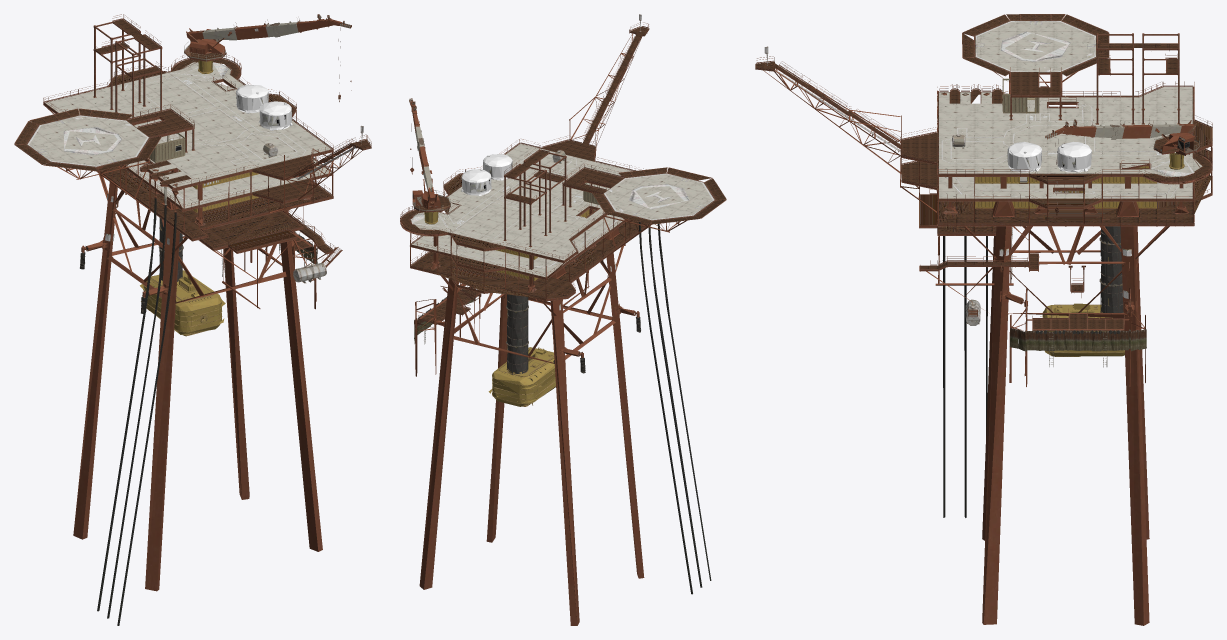
File: oilrig_2-map.glb
3 views of the same model, side by side, from view 1: azimuth 30°, elevation 25°; view 2: azimuth 150°, elevation 25°; view 3: azimuth 270°, elevation 25° (orthographic). The views are drawn at different scales.
Visible parts, largest first — view 1: burner_LOD0, helipad_LOD0, level0_dock_LOD0, liquid_gas_tank_600_LOD0, oilrig_crane_LOD0, fuel_tank_b_300 (3), level3_windoors_LOD0, level2_LOD0; view 2: burner_LOD0, helipad_LOD0, level0_dock_LOD0, oilrig_sat_tube_300_a_LOD0, liquid_gas_tank_600_LOD0, oilrig_crane_LOD0; view 3: burner_LOD0, helipad_LOD0, level0_dock_LOD0, liquid_gas_tank_600_LOD0, oilrig_sat_tube_300_a_LOD0, level2_LOD0, oilrig_crane_LOD0, level3_windoors_LOD0.
Boxes of the visible parts, box(x1,y1,x2,y2) form: burner_LOD0: box(14, 14, 371, 625); helipad_LOD0: box(26, 23, 331, 244); level0_dock_LOD0: box(140, 60, 317, 336); liquid_gas_tank_600_LOD0: box(236, 85, 292, 130); oilrig_crane_LOD0: box(163, 15, 351, 204); fuel_tank_b_300 (3): box(168, 143, 326, 283); level3_windoors_LOD0: box(149, 133, 185, 162); level2_LOD0: box(179, 170, 258, 212); burner_LOD0: box(400, 14, 726, 625); helipad_LOD0: box(409, 138, 714, 310); level0_dock_LOD0: box(414, 211, 555, 406); oilrig_sat_tube_300_a_LOD0: box(506, 294, 528, 374); liquid_gas_tank_600_LOD0: box(461, 154, 512, 196); oilrig_crane_LOD0: box(409, 99, 450, 220); burner_LOD0: box(755, 14, 1212, 625); helipad_LOD0: box(938, 20, 1202, 298); level0_dock_LOD0: box(972, 107, 1184, 356); liquid_gas_tank_600_LOD0: box(1007, 141, 1091, 172); oilrig_sat_tube_300_a_LOD0: box(1020, 181, 1123, 312); level2_LOD0: box(975, 166, 1156, 208); oilrig_crane_LOD0: box(963, 93, 1199, 210); level3_windoors_LOD0: box(1002, 78, 1039, 182).
Size of the model in its own units: 66.49 by 101 by 75.25.
31 materials, 31 textured.
